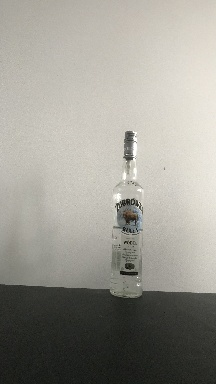butelka: (108, 126, 145, 301)
